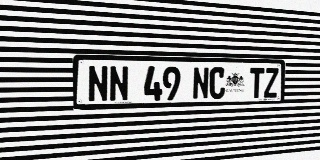4: (144, 66, 162, 101)
9: (163, 66, 180, 100)
C: (209, 67, 225, 99)
N: (87, 65, 108, 102), (109, 66, 129, 102), (192, 67, 209, 100)
T: (249, 68, 264, 98)
Z: (264, 68, 278, 98)
